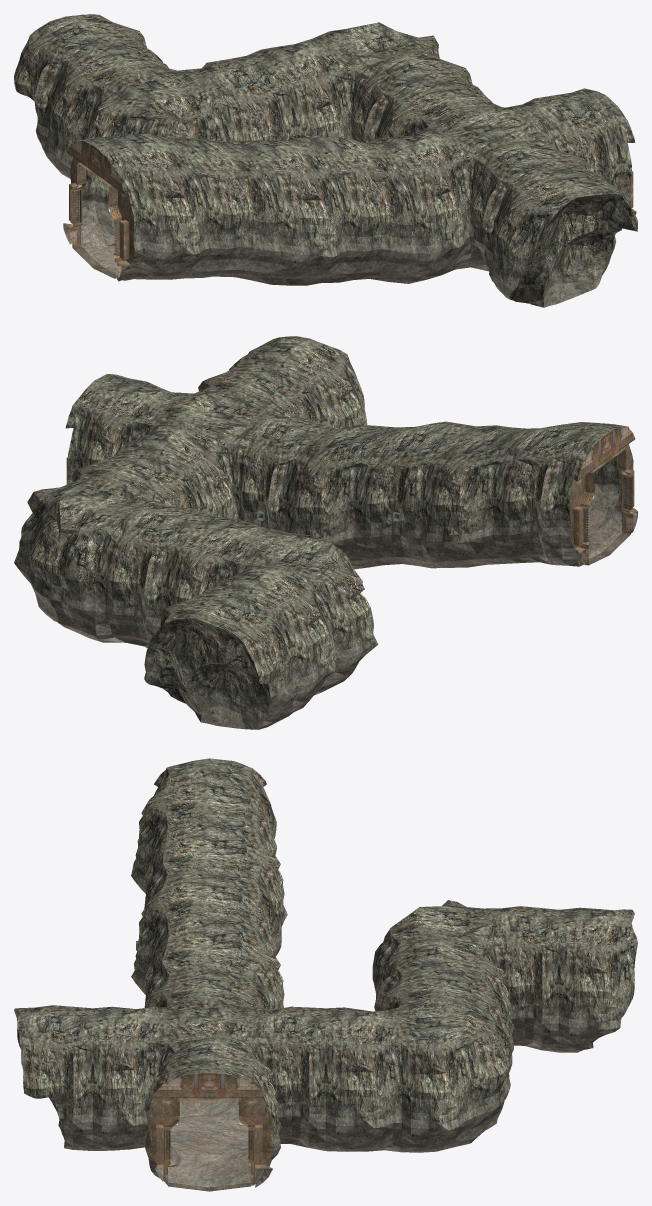
File: poi_all_bunker_mad_bio_s01_r16_intersection3_mesh_r16.fbx
3 renders of one model, top to bottom at view 1: azimuth 30°, elevation 25°; view 2: azimuth 150°, elevation 25°; view 3: azimuth 270°, elevation 25°, orthographic. The views are drawn at different scales.
Parts seen in each view (by area): view 1: mesh_node; view 2: mesh_node; view 3: mesh_node.
Boxes of the visible parts, bbox=[...] form: mesh_node: bbox=[14, 14, 637, 307]; mesh_node: bbox=[14, 336, 637, 729]; mesh_node: bbox=[14, 758, 637, 1191].
Bounding box in the file's own units: 30.01 × 10.99 × 32.12.
